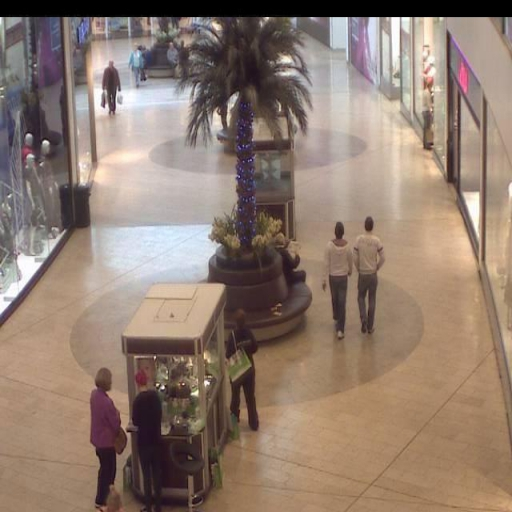person: (91, 367, 125, 511), (130, 370, 163, 511), (227, 308, 259, 431), (353, 216, 385, 335), (322, 221, 352, 339), (100, 59, 124, 117), (127, 42, 145, 87), (178, 38, 187, 89), (166, 40, 178, 71)
